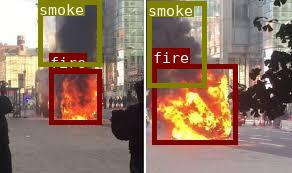fire: (152, 63, 236, 144), (49, 69, 100, 123)
smoke: (146, 0, 205, 87), (38, 0, 101, 65)
